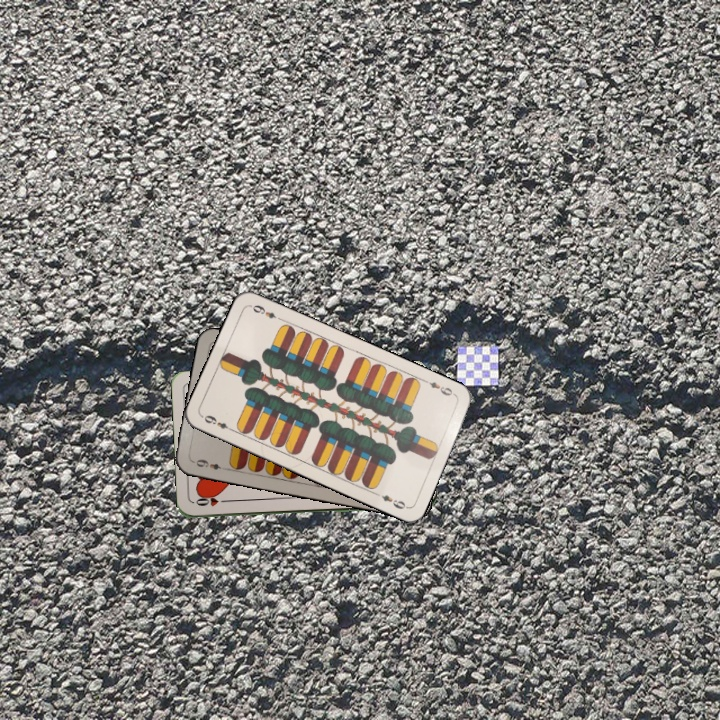E9: (420, 376, 459, 399), (200, 411, 237, 434), (189, 455, 229, 473)
HO: (192, 494, 232, 509)
